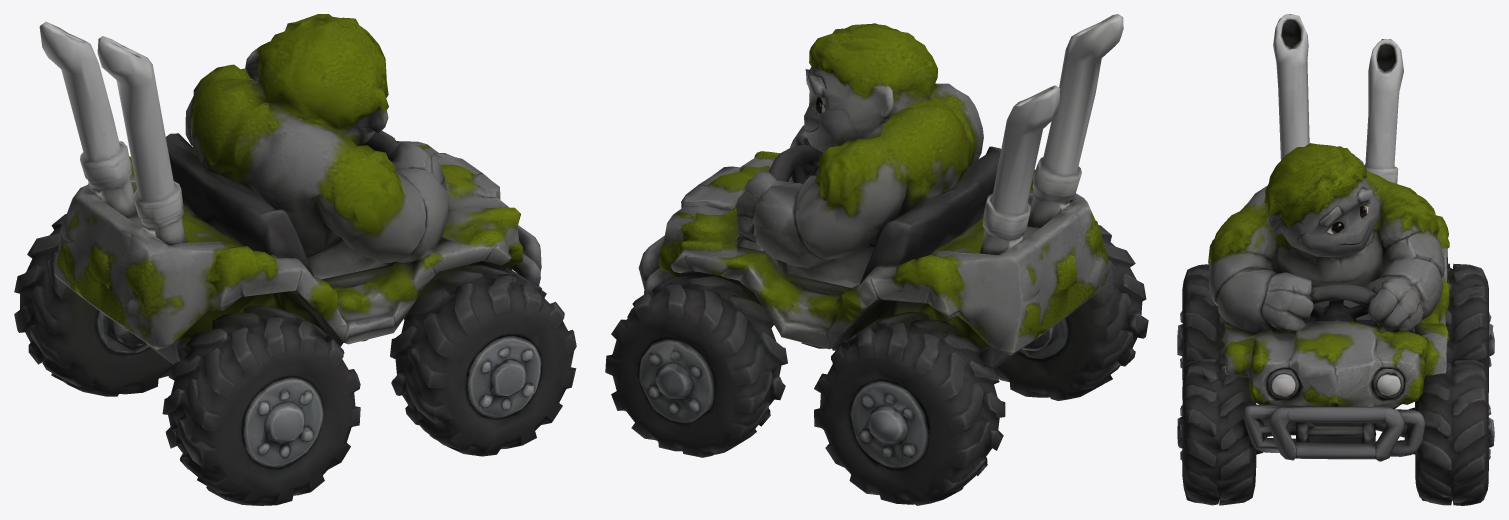
File: boulder.glb
The picture shows the model from 3 angles, left to right: view 1: azimuth 30°, elevation 25°; view 2: azimuth 150°, elevation 25°; view 3: azimuth 270°, elevation 25°; orthographic projection. The views are drawn at different scales.
Visible parts, largest first — view 1: tripo_node_042b5680-6b4a-42e2-bac8-9ef3c12ee840; view 2: tripo_node_042b5680-6b4a-42e2-bac8-9ef3c12ee840; view 3: tripo_node_042b5680-6b4a-42e2-bac8-9ef3c12ee840.
Part boxes in pixels (bbox=[...]): tripo_node_042b5680-6b4a-42e2-bac8-9ef3c12ee840: bbox=[14, 14, 576, 505]; tripo_node_042b5680-6b4a-42e2-bac8-9ef3c12ee840: bbox=[605, 14, 1148, 505]; tripo_node_042b5680-6b4a-42e2-bac8-9ef3c12ee840: bbox=[1177, 14, 1494, 505].
Size of the model in its own units: 0.9996 by 1 by 0.806.
1 material, 1 textured.
